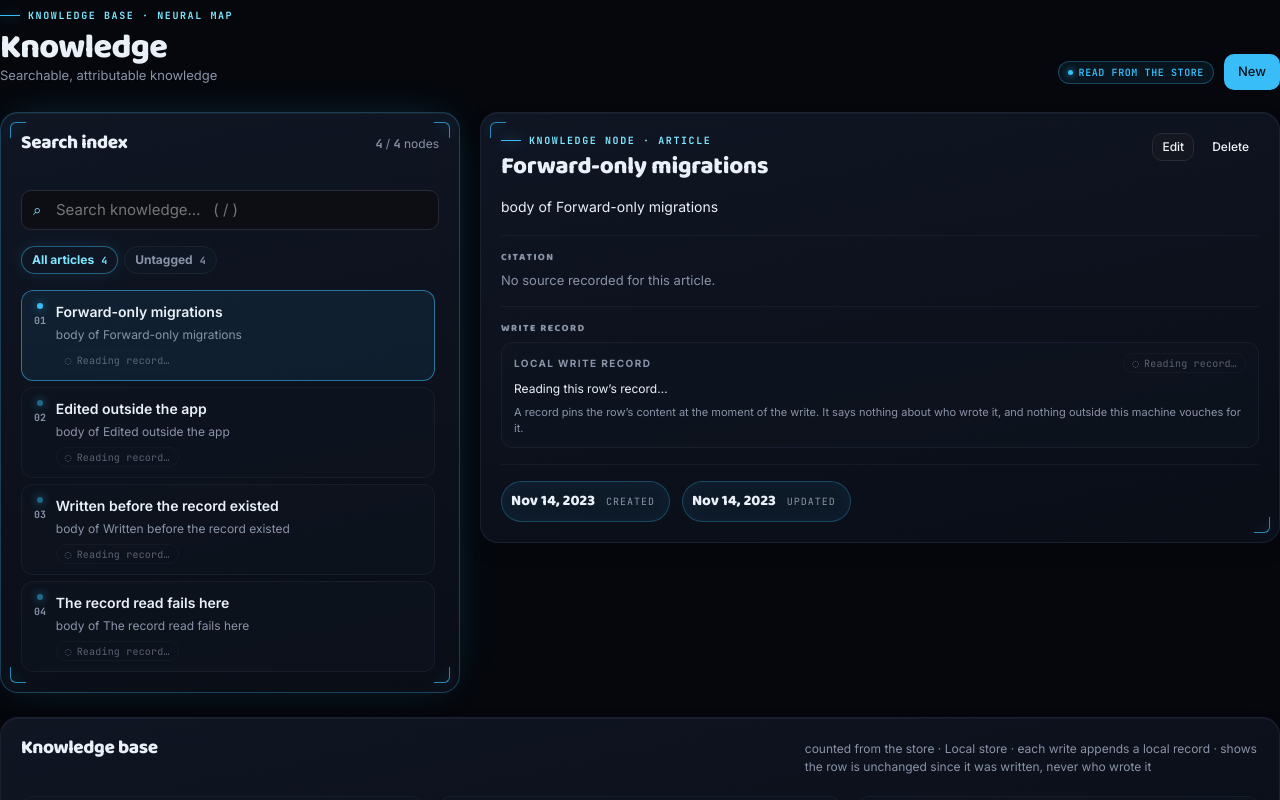
Knowledge — absence and fault are never the same statement › explains that nothing was back-filled
What coordinates should you click on to do the following:
click the text "Written before the record existed"
I would click on:
 (167, 506)
Its box is [56,497,279,514].
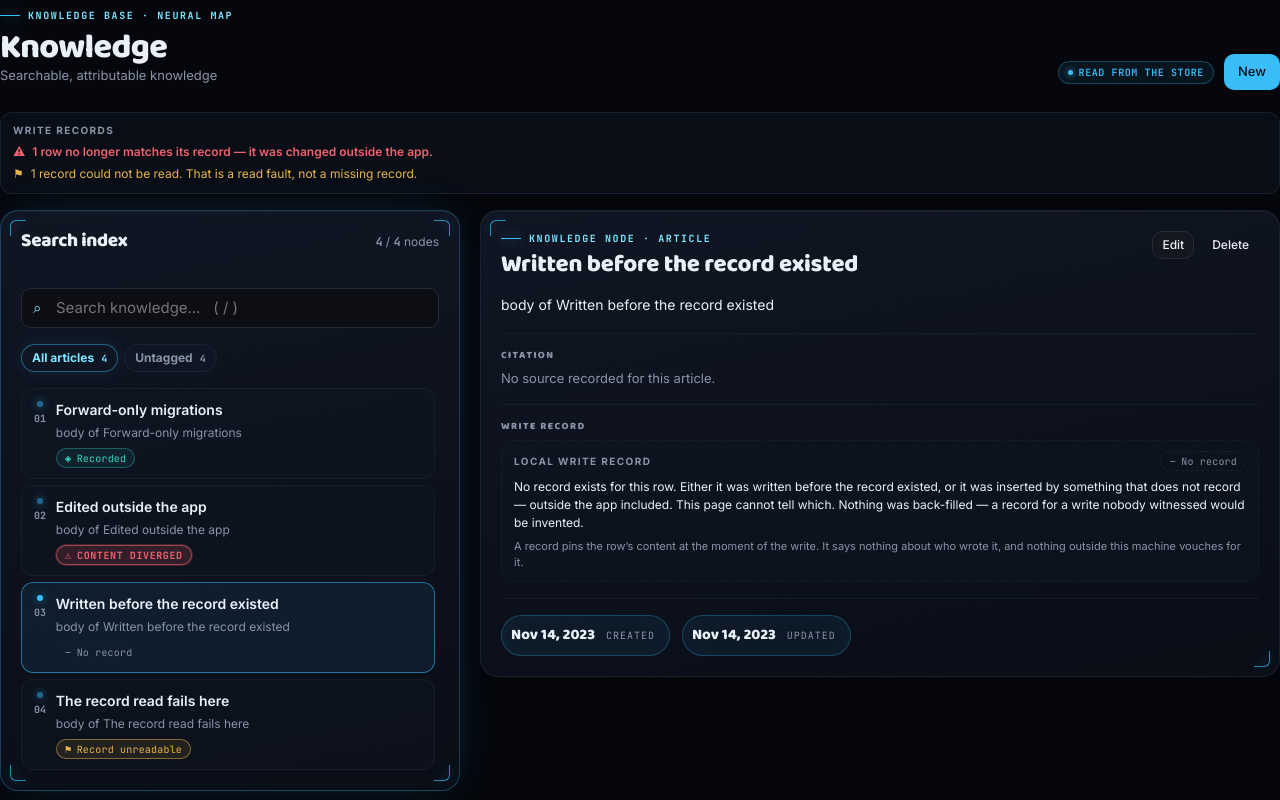
Expected: the element with class "kb-article" shows "Written before the record existed", [501,245,858,284]
Expected: the message with class "wrec-panel" shows "nothing was back-filled", [514,479,1244,530]
